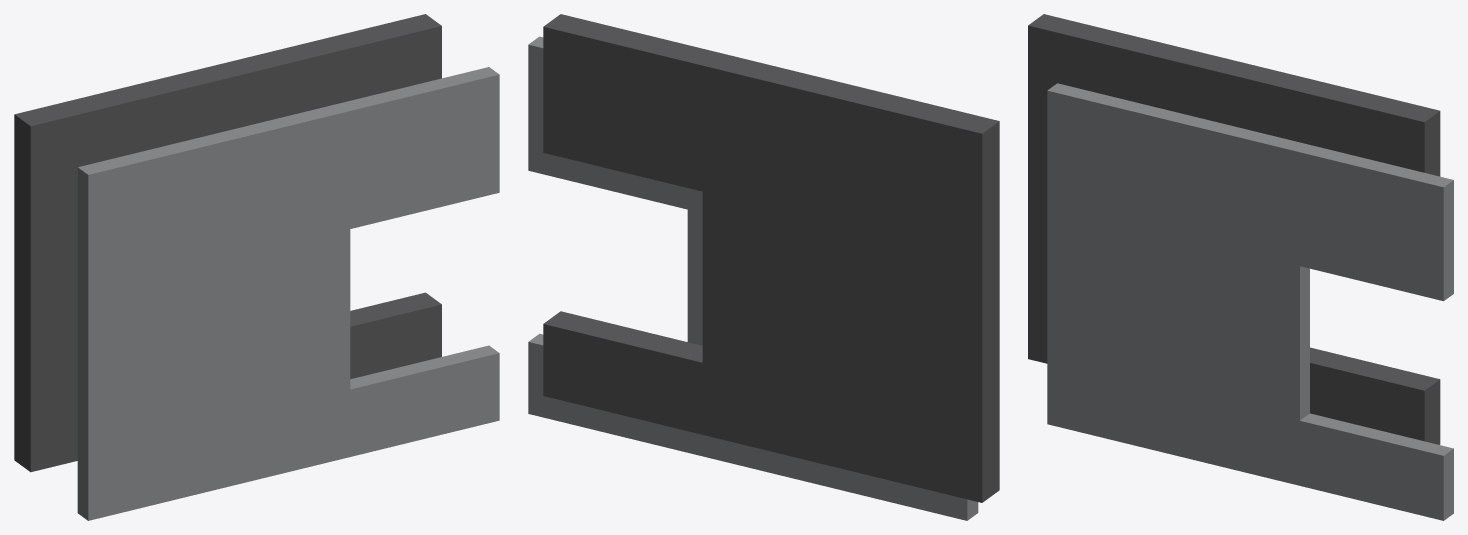
3 views of the same model, side by side, from view 1: azimuth 30°, elevation 25°; view 2: azimuth 150°, elevation 25°; view 3: azimuth 330°, elevation 25° (orthographic). The views are drawn at different scales.
Size of the model in its own units: 1.12 by 0.925 by 0.151.
